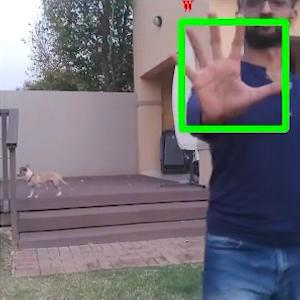follow_hand: (168, 7, 292, 122)
